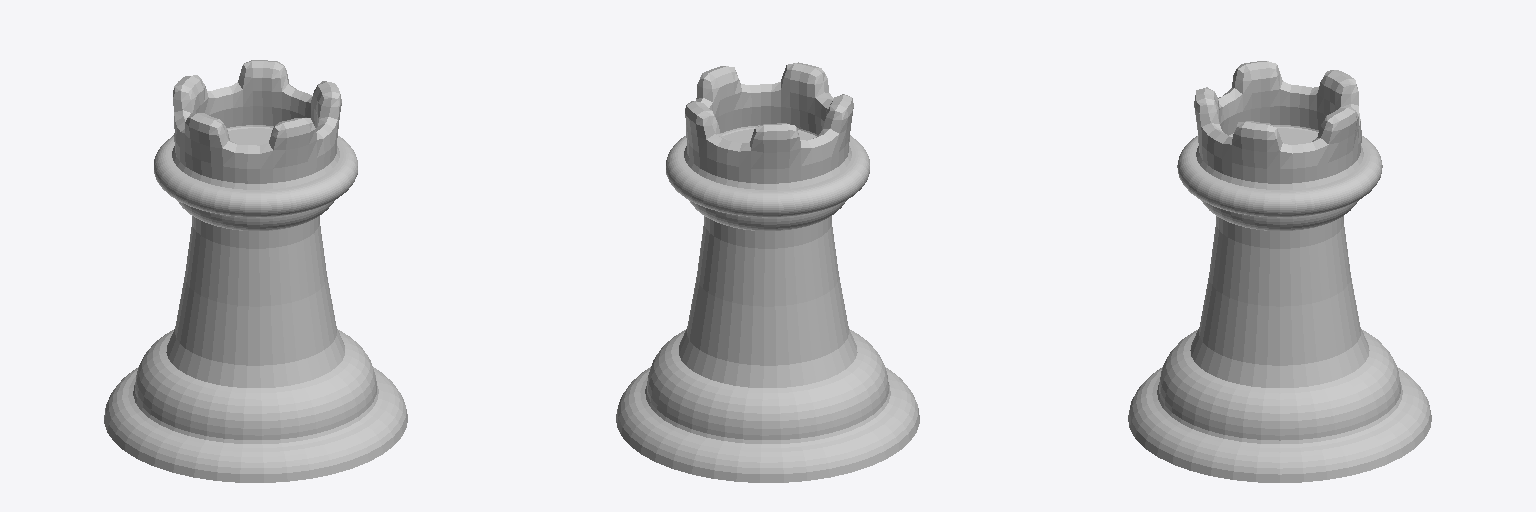
Rendered from finallwallnear.obj.
3 renders of one model, left to right at view 1: azimuth 30°, elevation 25°; view 2: azimuth 150°, elevation 25°; view 3: azimuth 270°, elevation 25°, orthographic.
Parts seen in each view (by area): view 1: black_rook1_Mesh.001; view 2: black_rook1_Mesh.001; view 3: black_rook1_Mesh.001.
Boxes of the visible parts, x1,y1,x2,y2 form: black_rook1_Mesh.001: [104, 60, 407, 482]; black_rook1_Mesh.001: [616, 62, 919, 482]; black_rook1_Mesh.001: [1128, 61, 1431, 482].
Size of the model in its own units: 0.5792 by 0.6844 by 0.5792.